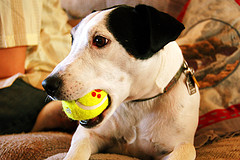tennis ball: (60, 88, 112, 121)
